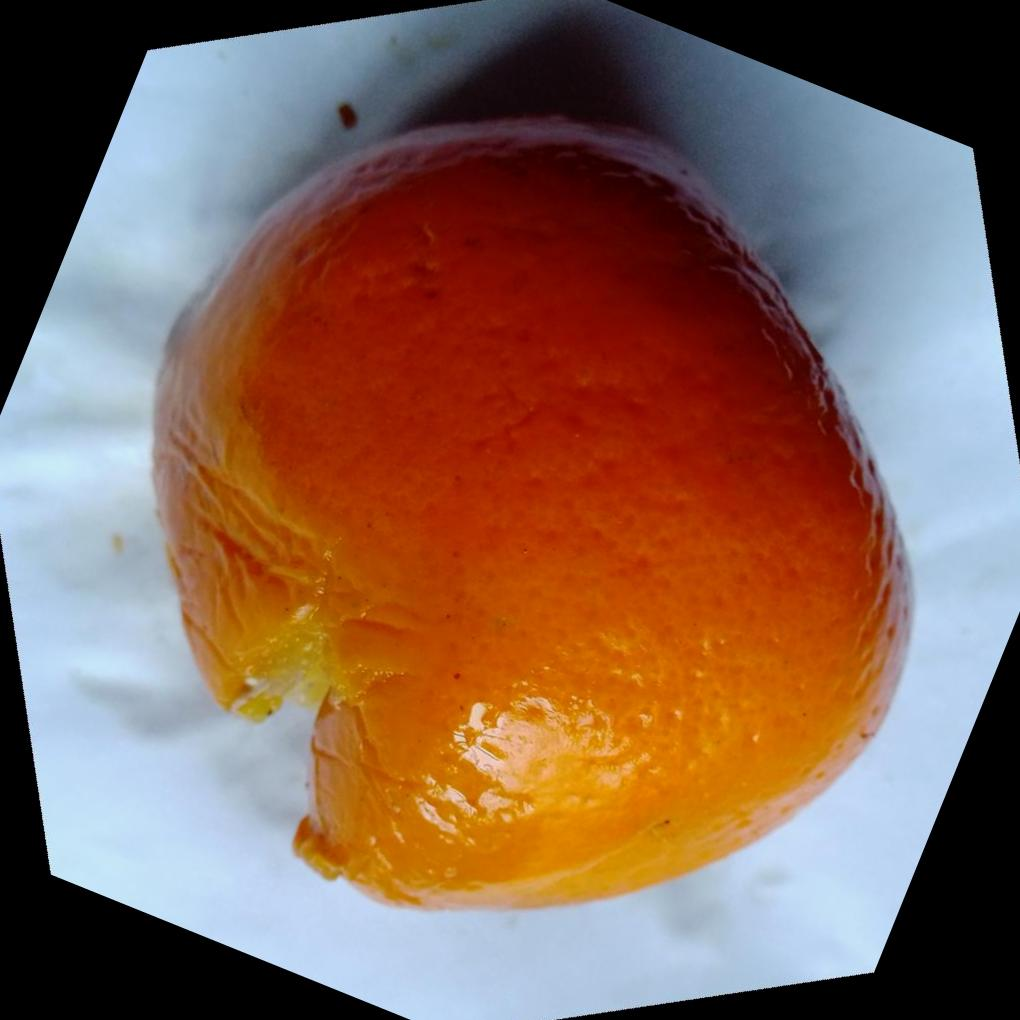FreshOrange: (150, 107, 914, 911)
